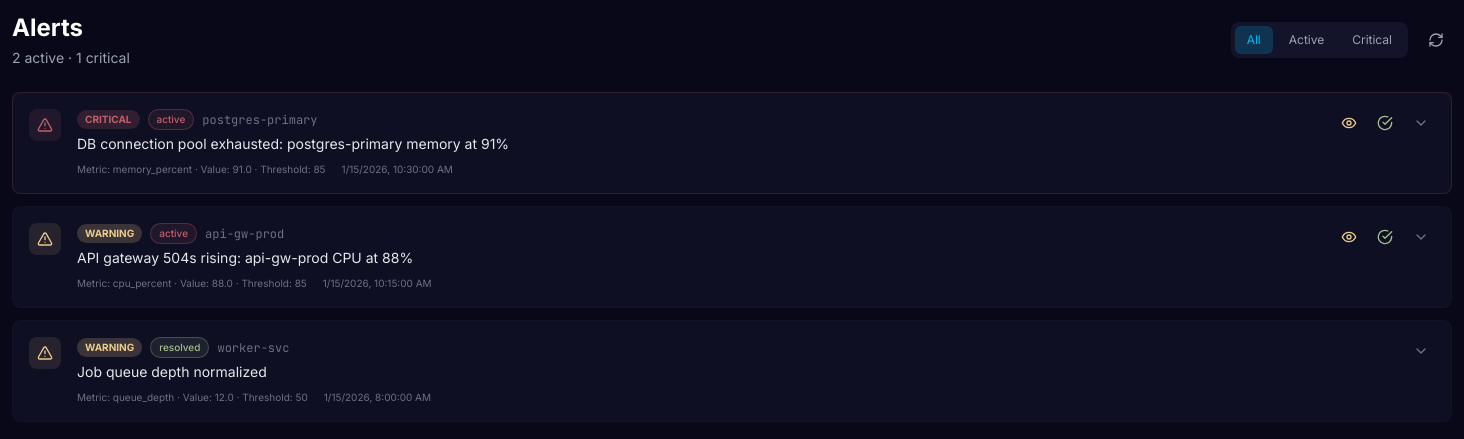
Test: AlertPanel › filtering › filters to active only when Active filter is clicked
Expected: the text "resolved" is shown, [150,337,210,358]
Click the button "Active". click: point(1307, 40)
box: [1277,26,1336,54]
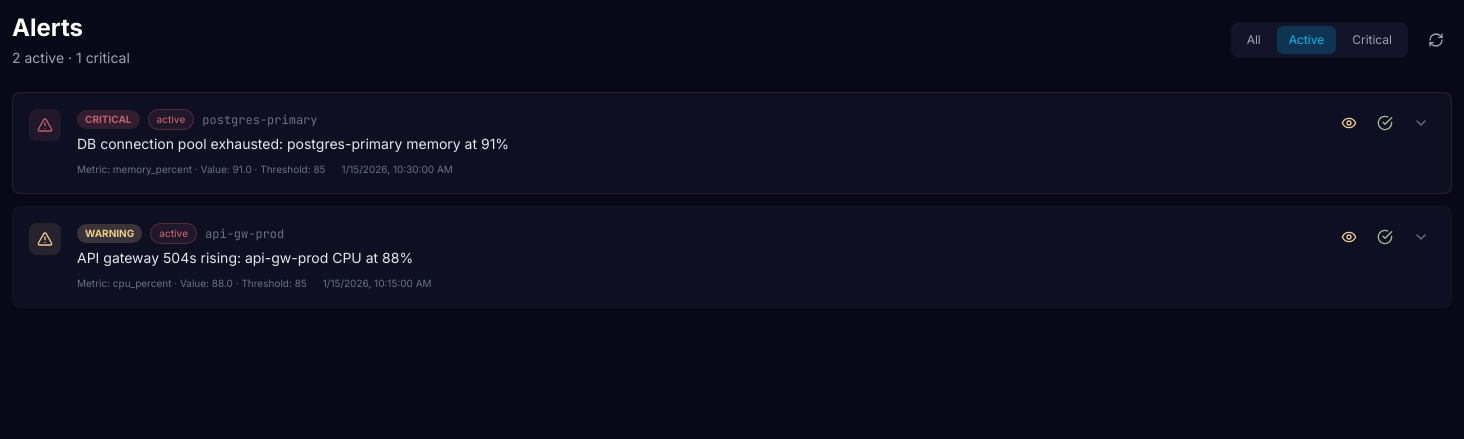
Result: the text "resolved" is gone
